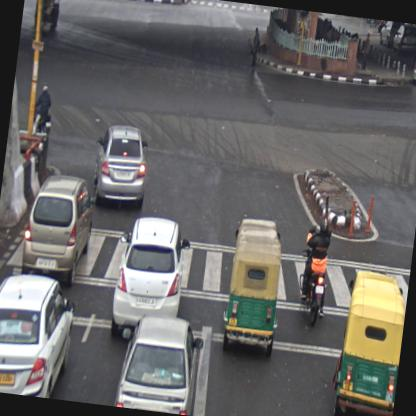car: (104, 212, 192, 353), (0, 267, 81, 400), (113, 308, 206, 415), (19, 170, 98, 288), (89, 120, 154, 209), (409, 44, 415, 93)
motorcycle: (297, 214, 335, 328), (32, 82, 57, 136)
